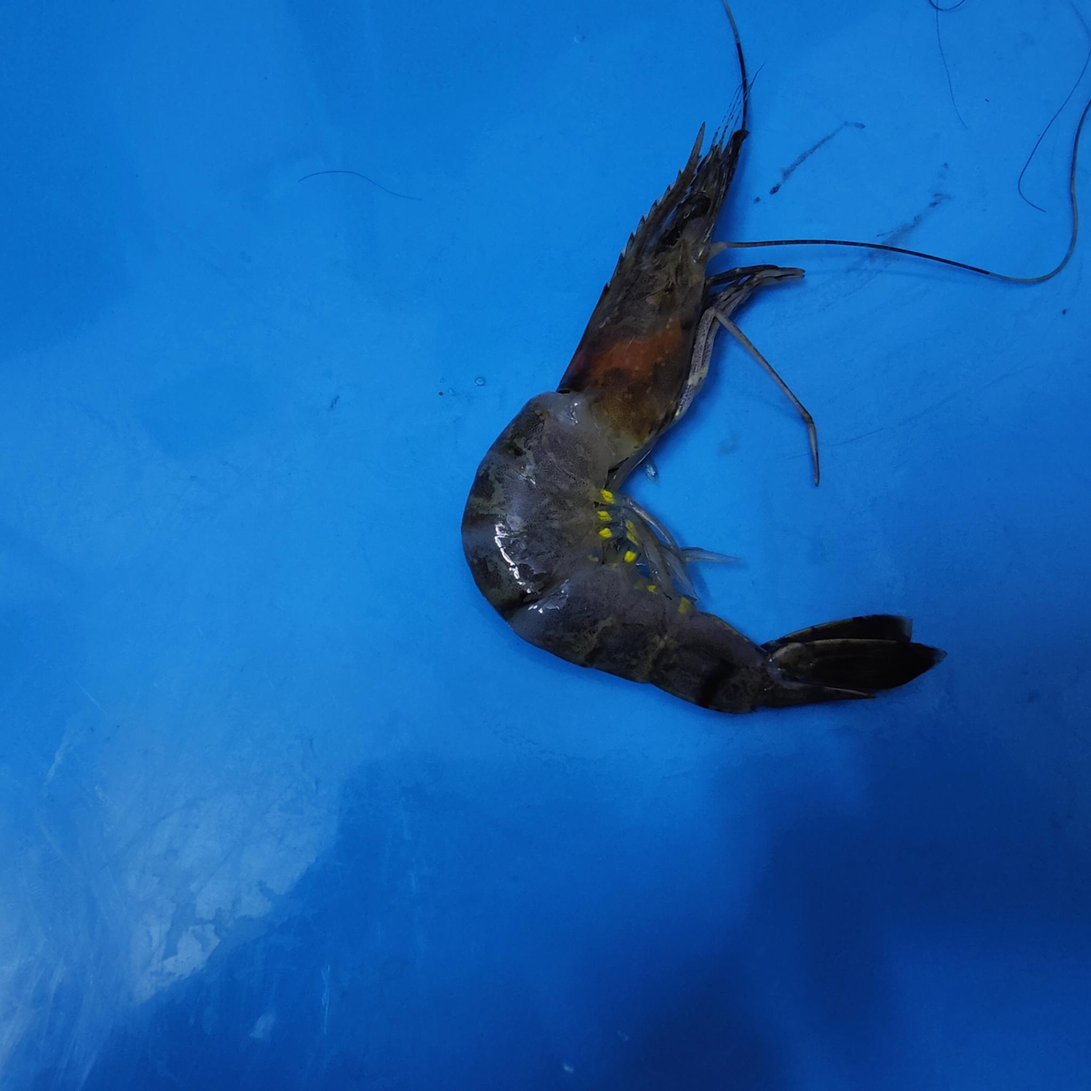whitespot: (587, 268, 685, 454)
